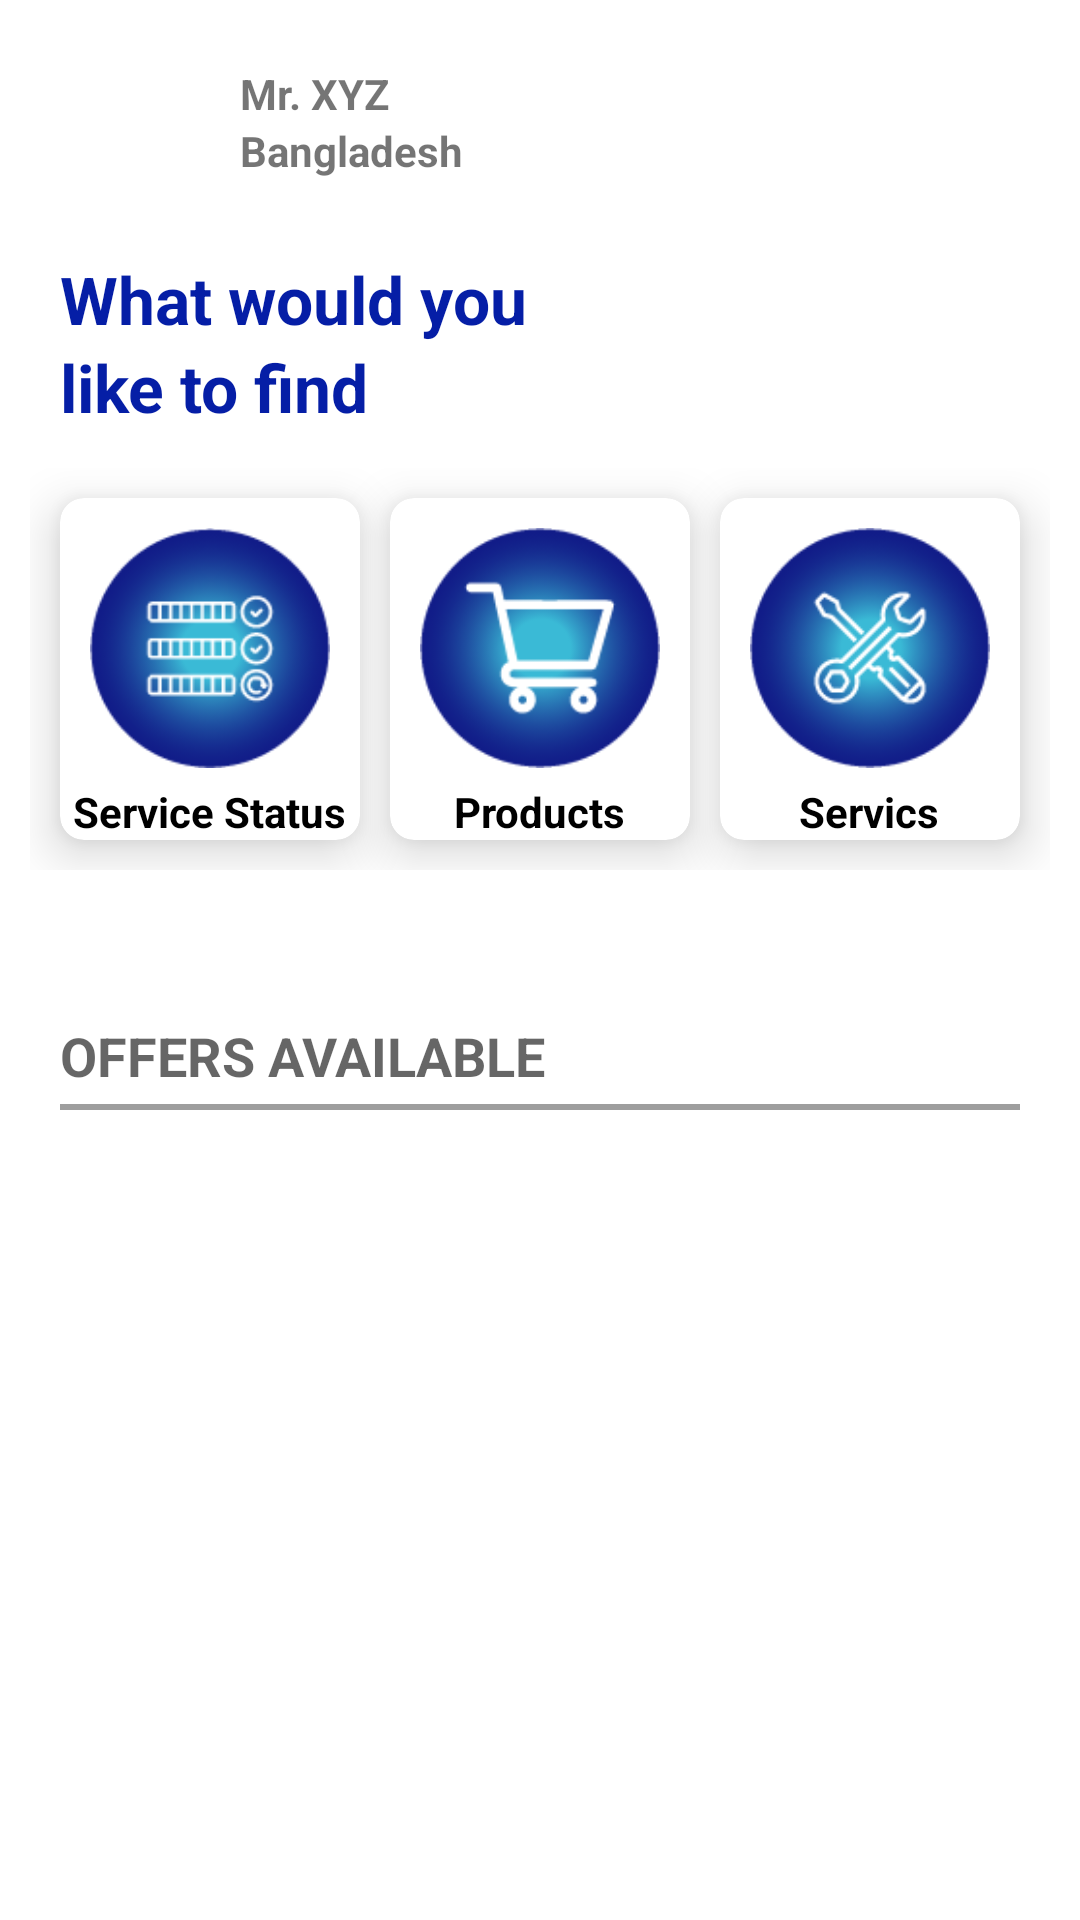

Icon click points for this 1080*1920 phone screenshot, format point (x, y):
buy product: point (540, 648)
